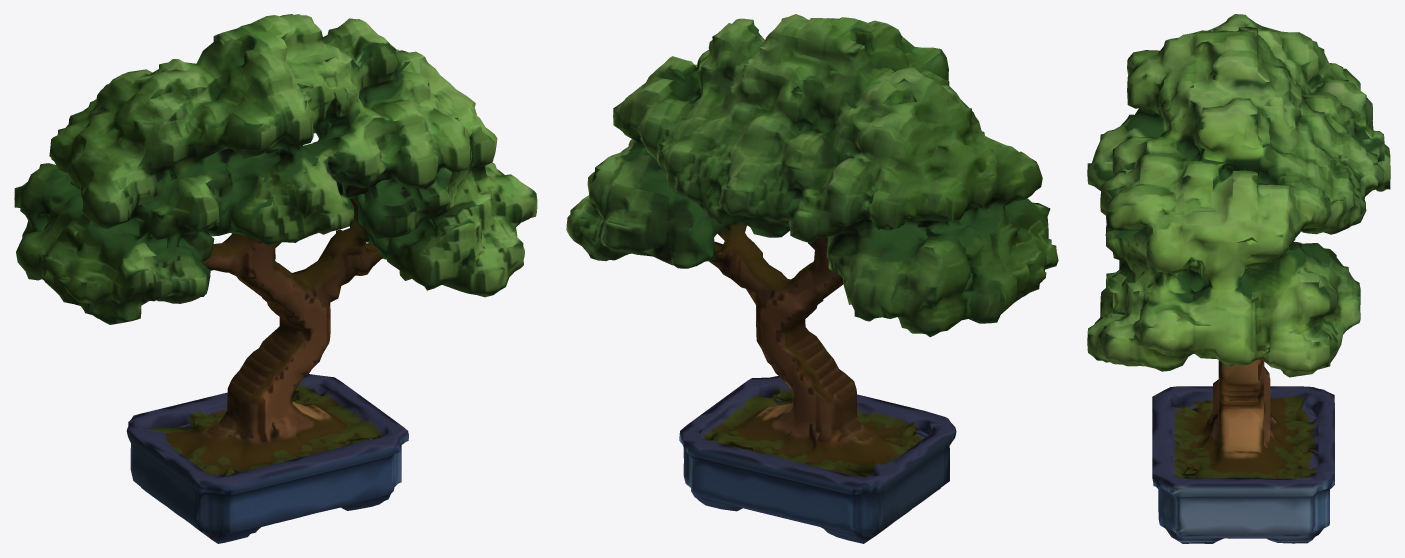
File: bonsai.fbx
3 renders of one model, left to right at view 1: azimuth 30°, elevation 25°; view 2: azimuth 150°, elevation 25°; view 3: azimuth 270°, elevation 25°, orthographic. The views are drawn at different scales.
Parts seen in each view (by area): view 1: BonsaiTree; view 2: BonsaiTree; view 3: BonsaiTree.
Boxes of the visible parts, x1=… form: BonsaiTree: x1=14, y1=14, x2=537, y2=543; BonsaiTree: x1=566, y1=14, x2=1058, y2=543; BonsaiTree: x1=1087, y1=14, x2=1390, y2=543.
Bounding box in the file's own units: 39.26 × 40 × 23.44.
1 material, 1 textured.
